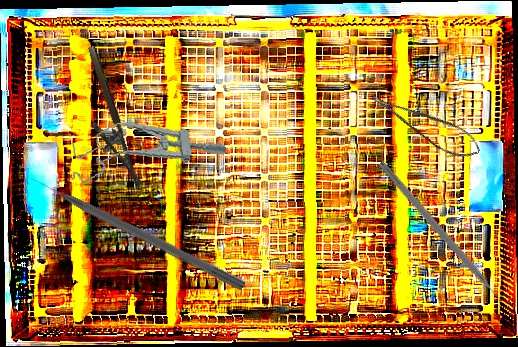Chopper: (370, 160, 509, 316)
Micro Scissor: (369, 77, 486, 169)
Needle Holder: (68, 45, 143, 194)
Pusher: (27, 170, 248, 292)
Speculum: (66, 110, 228, 185)
